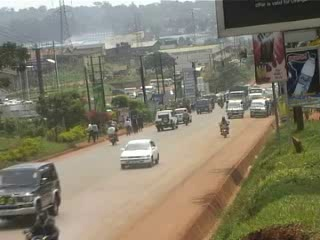Car: (0, 158, 63, 223), (117, 136, 160, 172), (151, 108, 179, 131), (172, 105, 195, 125)
Motorcycle: (20, 211, 64, 238), (105, 122, 120, 146), (217, 114, 232, 137), (179, 109, 192, 127), (218, 96, 225, 110)
